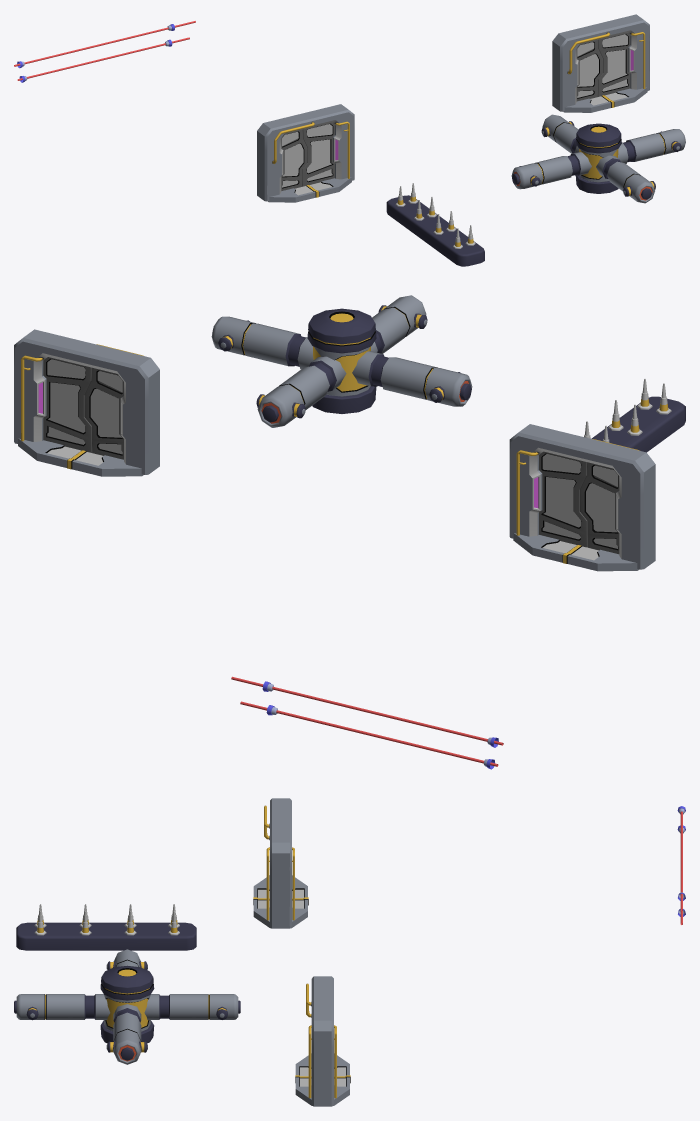
The model's file is Level40_Objects.fbx.
3 renders of one model, top to bottom at view 1: azimuth 30°, elevation 25°; view 2: azimuth 150°, elevation 25°; view 3: azimuth 270°, elevation 25°, orthographic. The views are drawn at different scales.
Parts seen in each view (by area): view 1: Base (×3), pCylinder14 (×4), Right (×2), Left (×2), pCylinder13, Base5 (×2), Laser (×2); view 2: Base (×3), pCylinder14 (×4), Right (×2), Left (×2), pCylinder13, Base5 (×2), Laser (×2); view 3: Base (×3), pCylinder14 (×3), pCylinder13, Base5 (×2).
Boxes of the visible parts, box(x1,y1,x2,y2) form: Base (×3): box(257, 14, 649, 266); pCylinder14 (×4): box(511, 114, 685, 203); Right (×2): box(302, 33, 630, 186); Left (×2): box(281, 40, 602, 190); pCylinder13: box(575, 123, 621, 193); Base5 (×2): box(268, 87, 647, 202); Laser (×2): box(14, 21, 195, 80); Base (×3): box(14, 329, 685, 569); pCylinder14 (×4): box(211, 295, 472, 427); Right (×2): box(43, 357, 587, 547); Left (×2): box(84, 367, 619, 554); pCylinder13: box(307, 308, 376, 413); Base5 (×2): box(18, 438, 638, 571); Laser (×2): box(231, 676, 503, 766); Base (×3): box(16, 798, 333, 1106); pCylinder14 (×3): box(14, 994, 240, 1064); pCylinder13: box(100, 965, 154, 1043); Base5 (×2): box(253, 875, 350, 1105).
Size of the model in its own units: 289 by 45.46 by 303.
